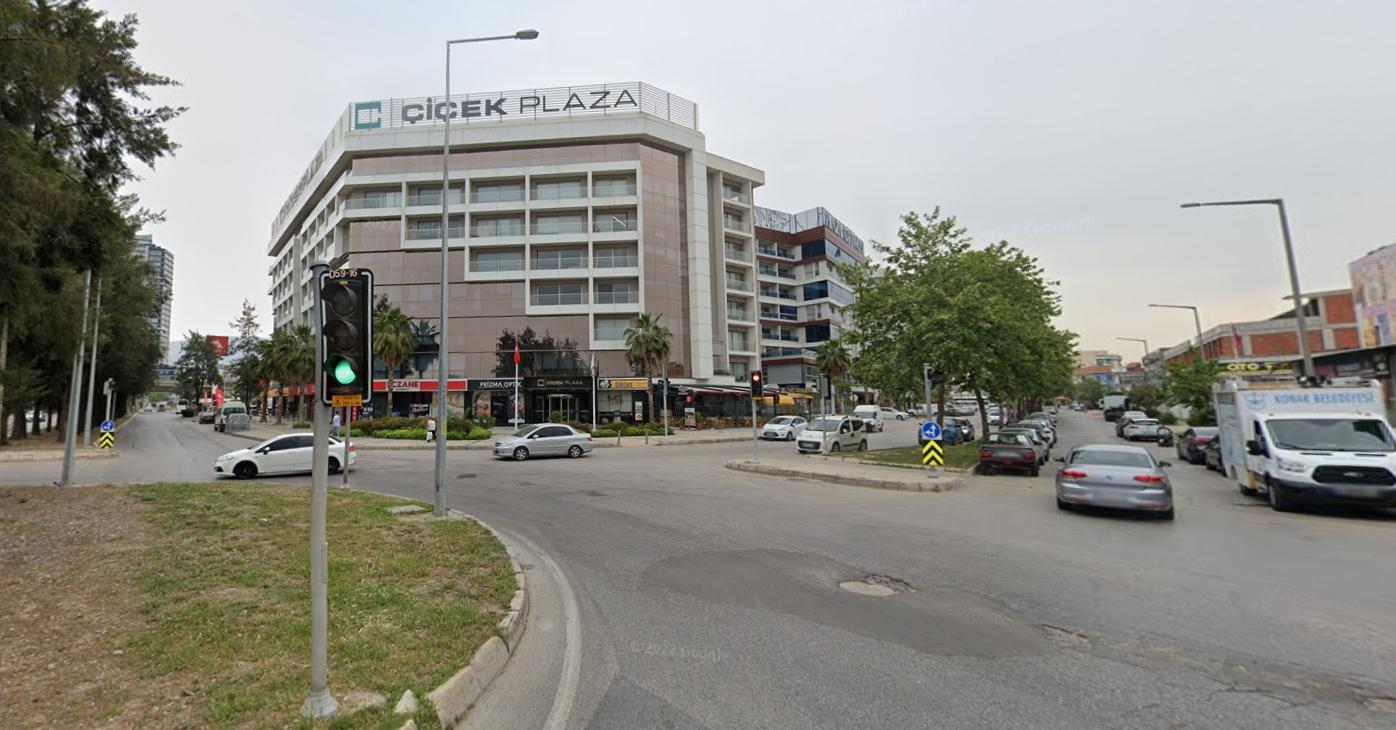greenlight: (322, 273, 366, 394)
